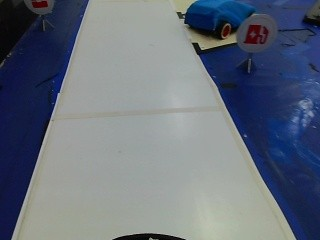battery: (237, 14, 277, 55)
